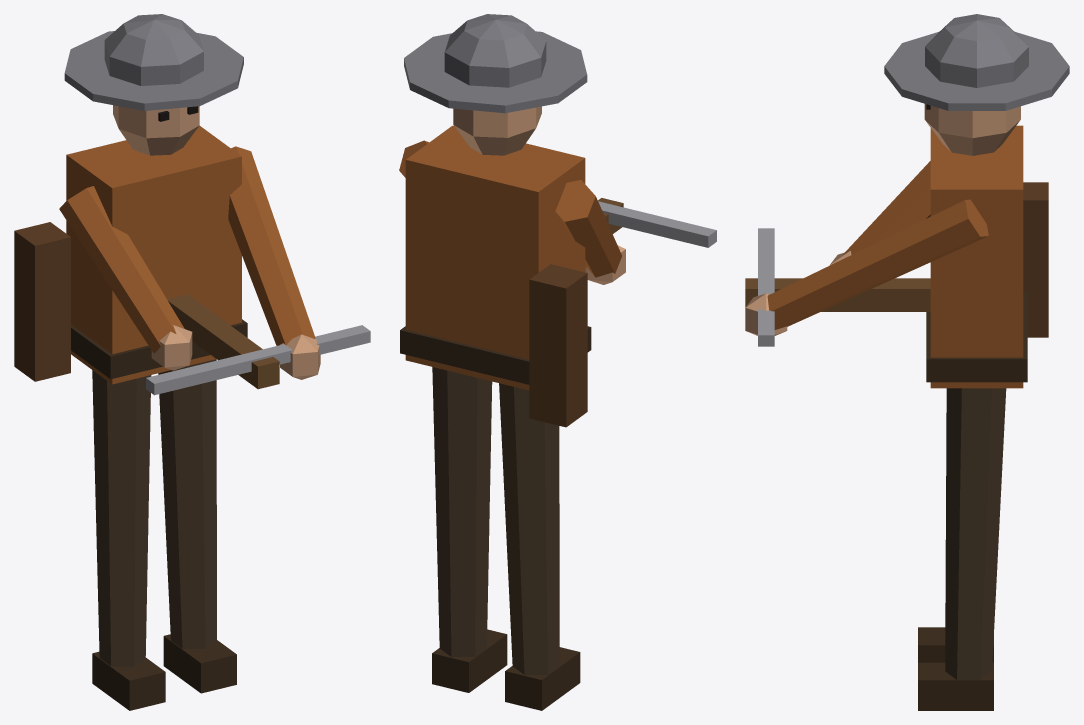
Rendered from armbrust.glb.
3 renders of one model, left to right at view 1: azimuth 30°, elevation 25°; view 2: azimuth 150°, elevation 25°; view 3: azimuth 270°, elevation 25°, orthographic. The views are drawn at different scales.
Size of the model in its own units: 0.6 by 1.74 by 0.77.
Materials: 1 (1 with a texture image).
